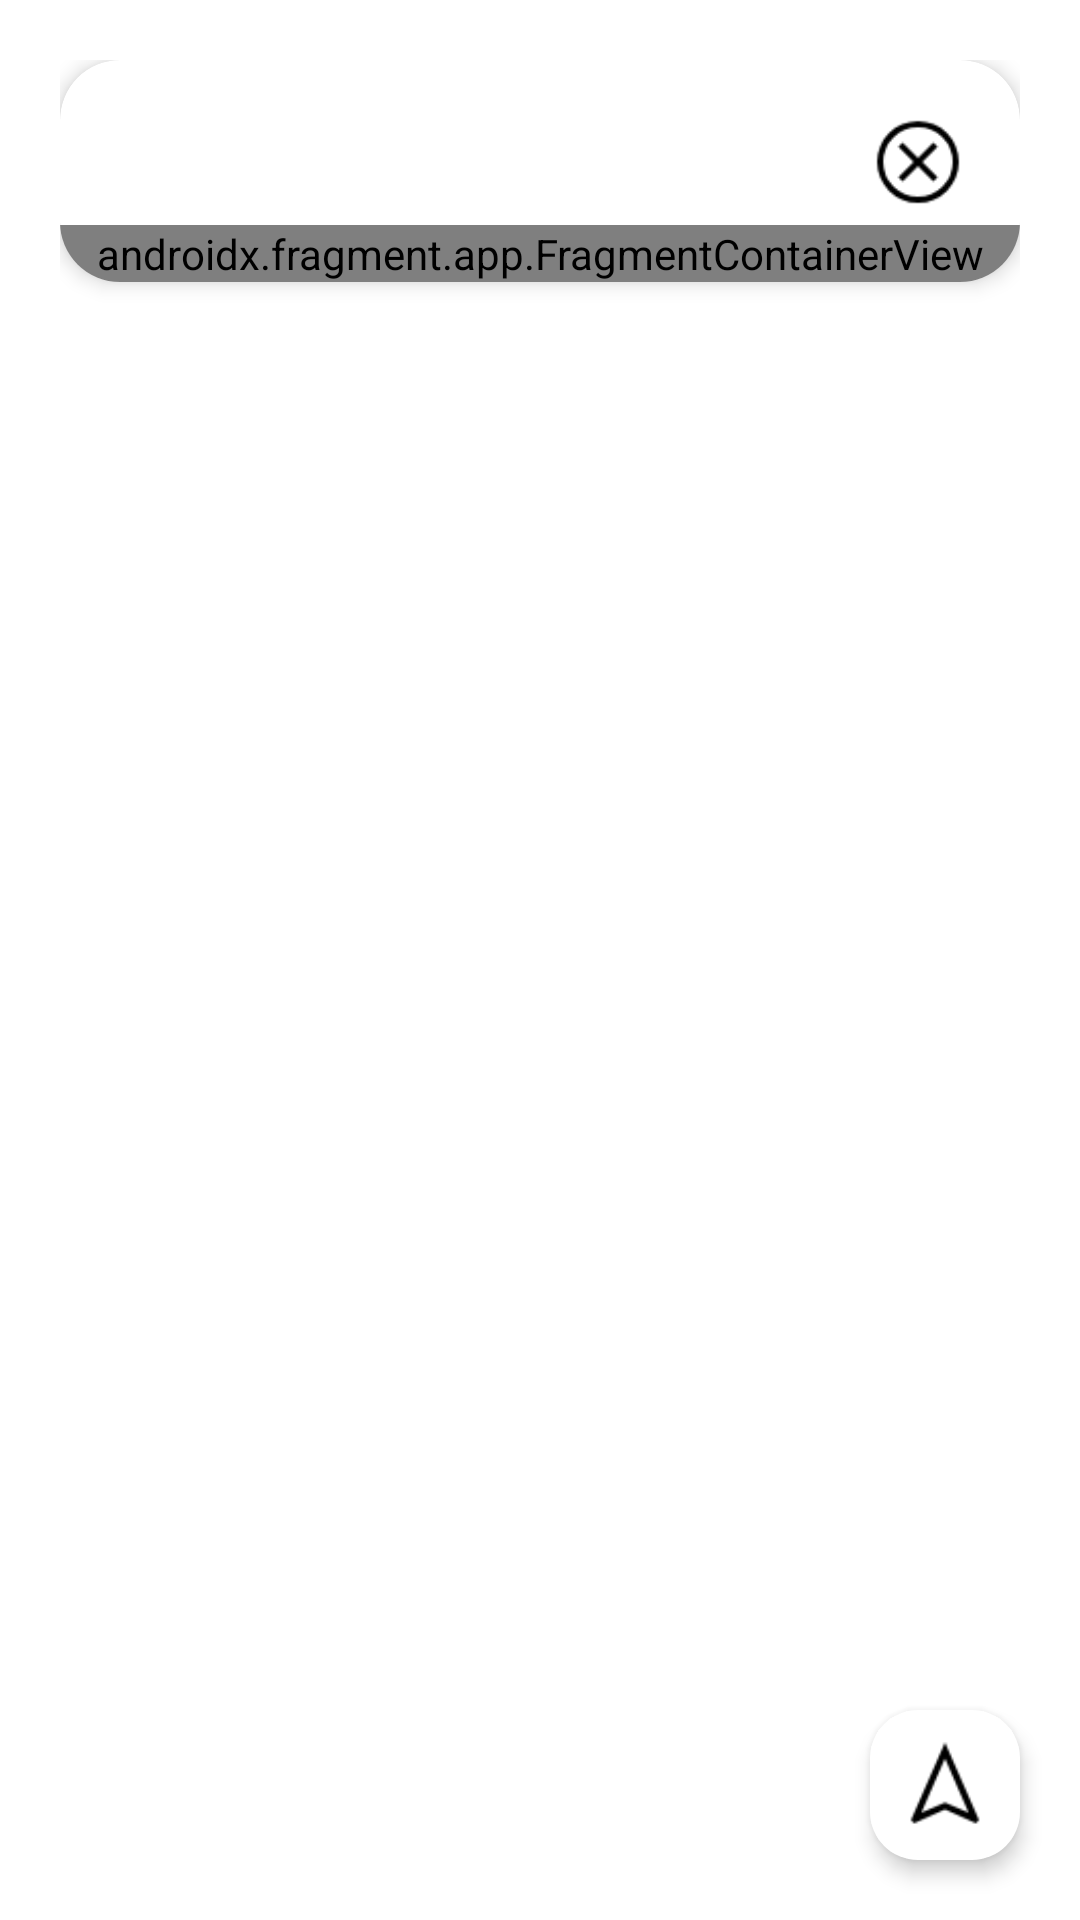

Where to tap for icons on this 1080 x 1920 app screen, as (x=x, y=y):
cancel: (x=918, y=162)
location: (x=927, y=1788)
